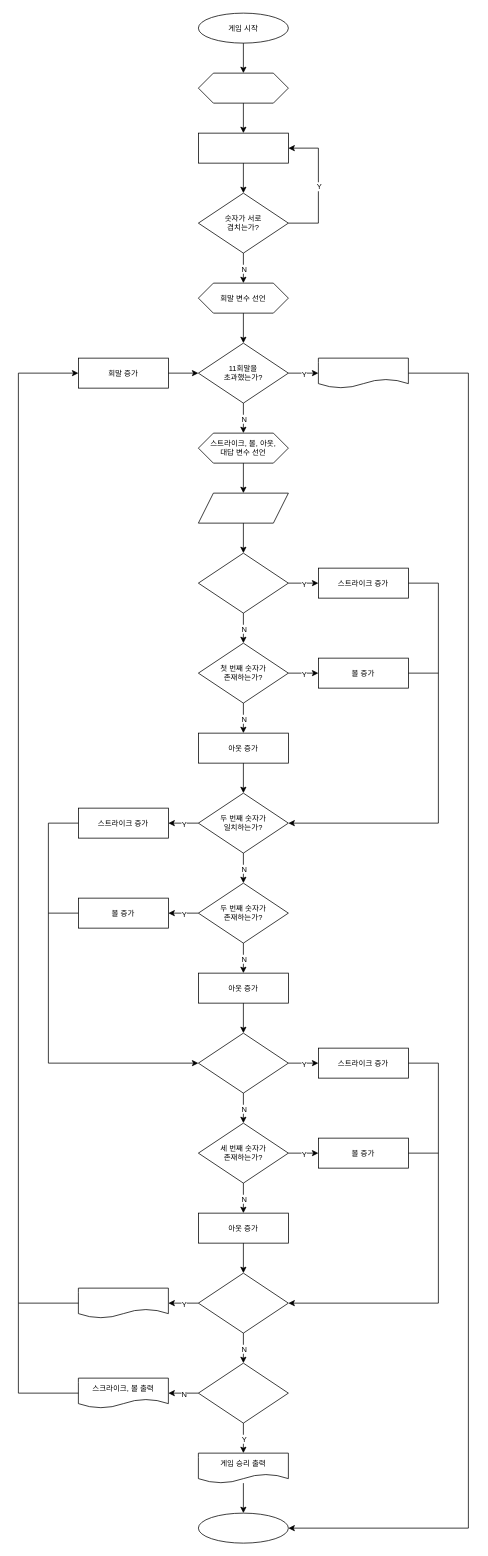
Image size: 488x1556. Some labels were removed from this diagram. Each missing label, with the centre of its shape:
"게임 끝" belongs at point (243, 1527).
"게임 패배 출력" belongs at point (363, 372).
"대답 입력" belongs at point (243, 507).
"랜덤 숫자 변수 선언" belongs at point (243, 87).
"랜덤 숫자 생성" belongs at point (243, 147).
"세 번째 숫자가 일치하는가?" belongs at point (243, 1062).
"스트라이크가 3인가?" belongs at point (243, 1392).
"아웃 출력" belongs at point (123, 1302).
"아웃이 3 인가?" belongs at point (243, 1302).
"첫 번째 숫자가 일치하는가?" belongs at point (243, 582).
